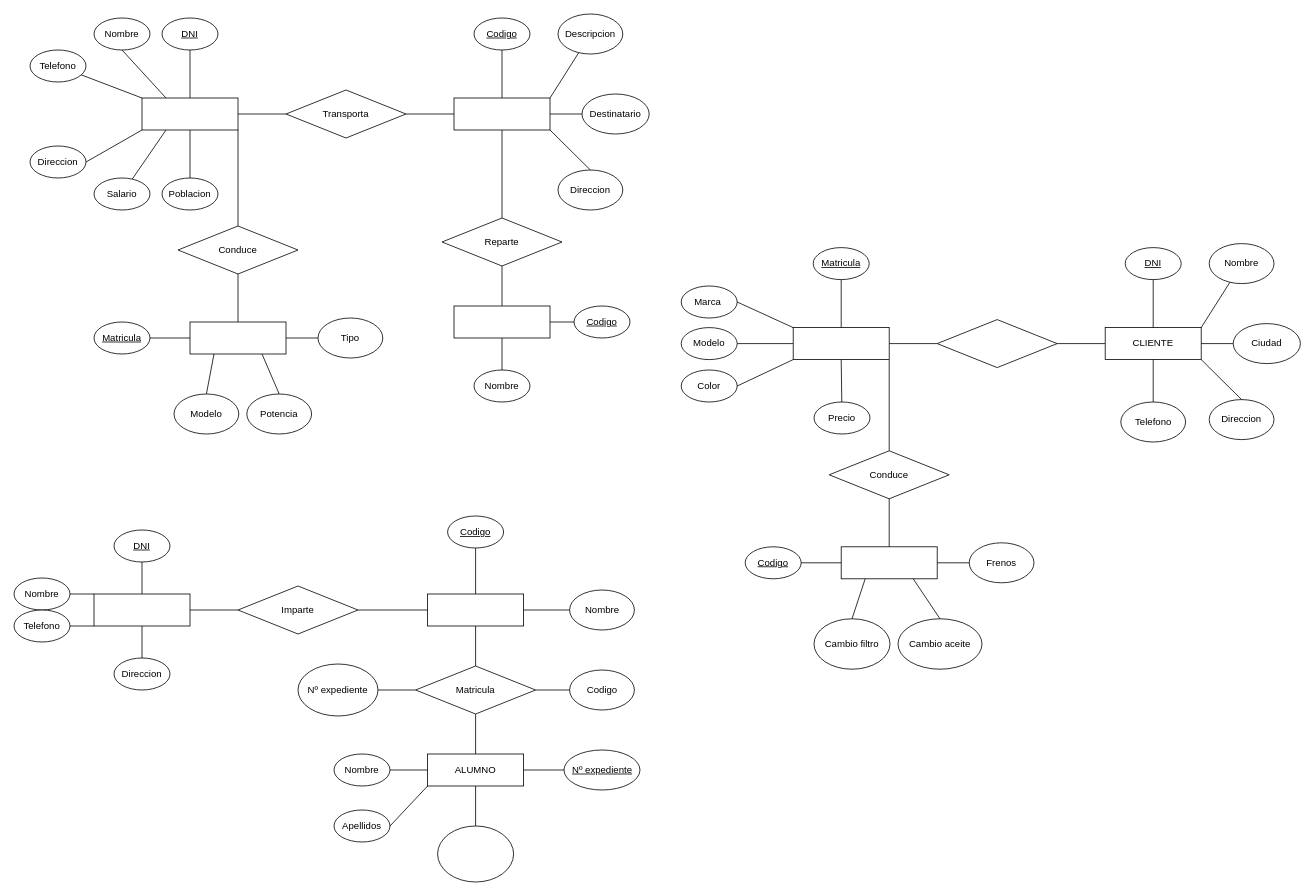
Some shapes in this 1314 by 896 pixel diagram are drawn without their labels. Each missing label, with the box of its shape:
CAMION: (189, 321, 286, 354)
COCHE: (792, 327, 889, 360)
ENCARGADO: (141, 97, 238, 130)
Fecha nacimiento: (437, 825, 514, 882)
MODULO: (427, 593, 524, 626)
PAQUETE: (453, 97, 550, 130)
PROFESOR: (93, 593, 190, 626)
PROVINCIA: (453, 305, 550, 338)
REVISION: (840, 546, 937, 579)
Vende: (936, 319, 1057, 368)
